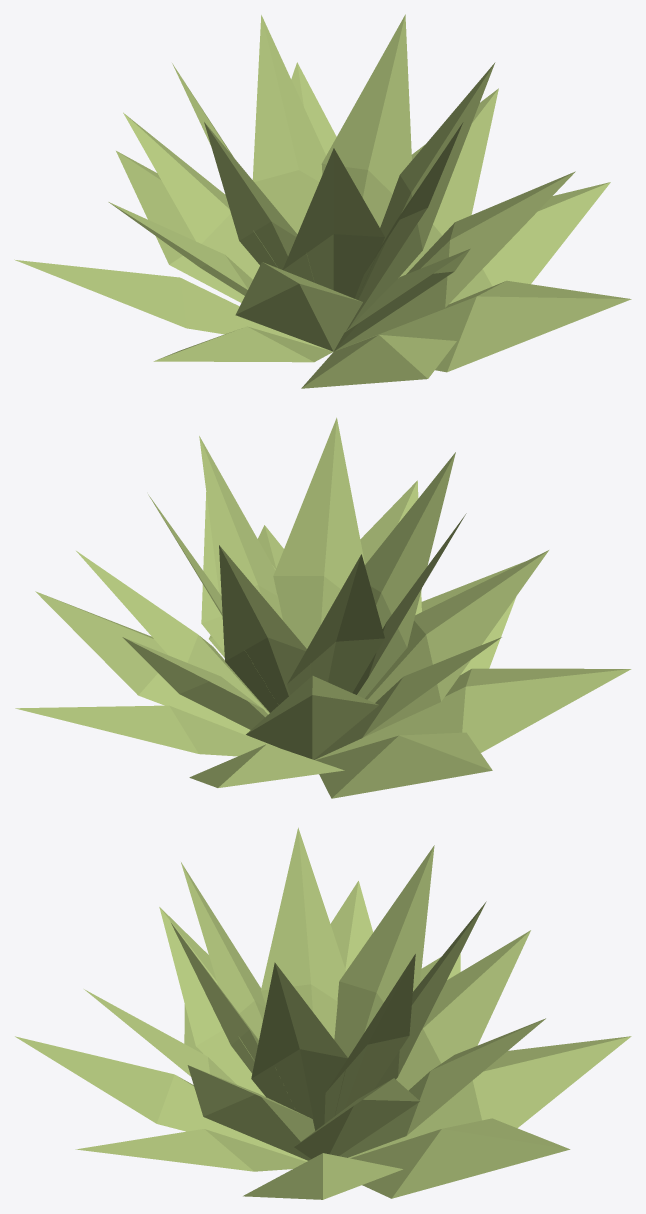
The picture shows the model from 3 angles, top to bottom: view 1: azimuth 30°, elevation 25°; view 2: azimuth 150°, elevation 25°; view 3: azimuth 270°, elevation 25°; orthographic projection.
Visible parts, largest first — view 1: GF-104 Open lettuce rosette batched; view 2: GF-104 Open lettuce rosette batched; view 3: GF-104 Open lettuce rosette batched.
Boxes of the visible parts, bbox=[...] form: GF-104 Open lettuce rosette batched: bbox=[14, 14, 631, 388]; GF-104 Open lettuce rosette batched: bbox=[15, 417, 631, 798]; GF-104 Open lettuce rosette batched: bbox=[15, 827, 631, 1199].
Bounding box in the file's own units: 0.5133 × 0.255 × 0.5265.
